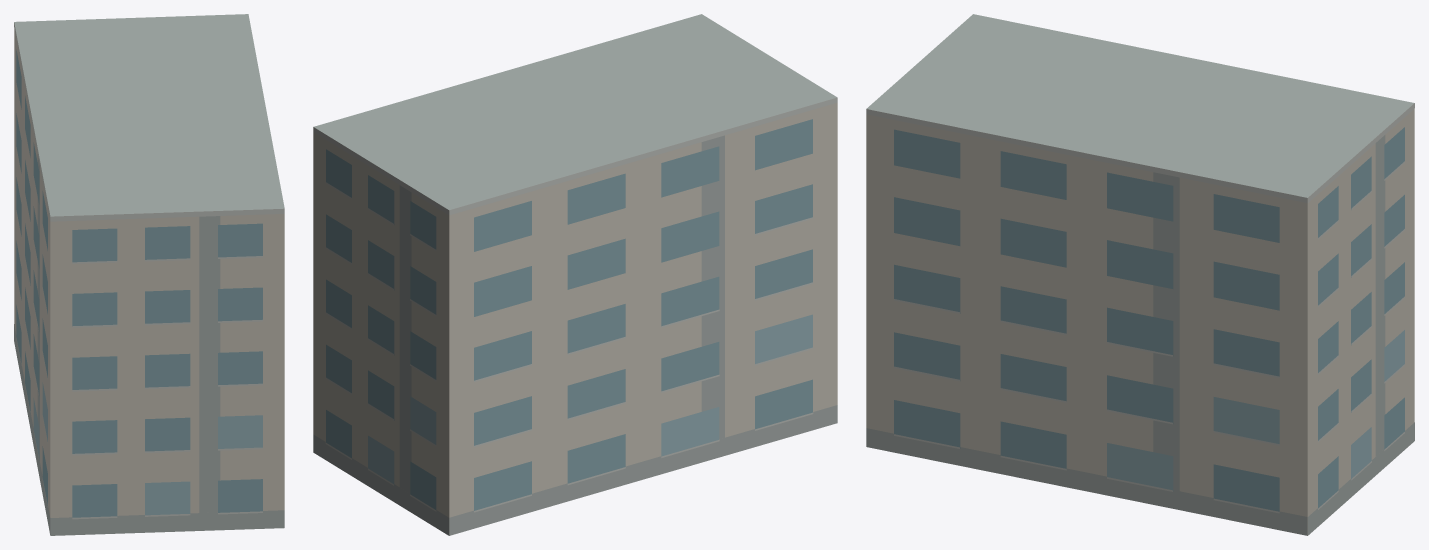
File: residential-977d9551-9c8a-44ec-be9a-74313814d326.glb
3 renders of one model, left to right at view 1: azimuth 30°, elevation 25°; view 2: azimuth 150°, elevation 25°; view 3: azimuth 270°, elevation 25°, orthographic. The views are drawn at different scales.
Parts seen in each view (by area): view 1: residential-977d9551-9c8a-44ec-be9a-74313814d326.tmp; view 2: residential-977d9551-9c8a-44ec-be9a-74313814d326.tmp; view 3: residential-977d9551-9c8a-44ec-be9a-74313814d326.tmp.
Boxes of the visible parts, x1=… form: residential-977d9551-9c8a-44ec-be9a-74313814d326.tmp: x1=14, y1=14, x2=284, y2=535; residential-977d9551-9c8a-44ec-be9a-74313814d326.tmp: x1=313, y1=14, x2=837, y2=535; residential-977d9551-9c8a-44ec-be9a-74313814d326.tmp: x1=866, y1=14, x2=1414, y2=535.
Bounding box in the file's own units: 17.81 × 15.25 × 22.44.
